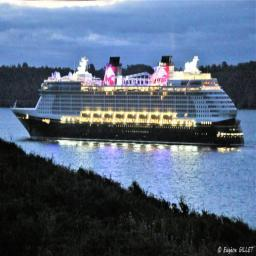cruises: (8, 56, 248, 155)
